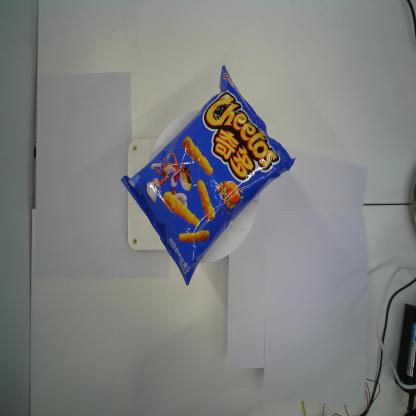Puffed Food: (119, 64, 297, 285)
